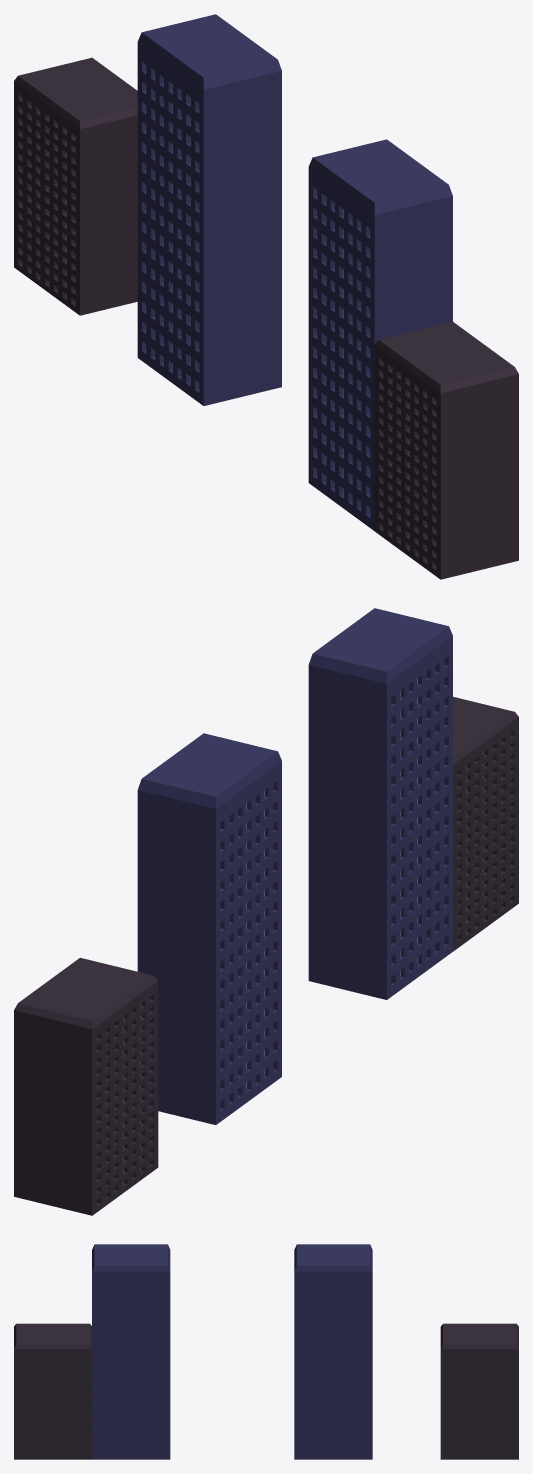
File: buildings.fbx
3 renders of one model, top to bottom at view 1: azimuth 30°, elevation 25°; view 2: azimuth 150°, elevation 25°; view 3: azimuth 270°, elevation 25°, orthographic. The views are drawn at different scales.
Visible parts, largest first — view 1: Cube.001, Cube.002, Cube.003; view 2: Cube.001, Cube.002, Cube.003; view 3: Cube.001, Cube.002, Cube.003.
Part boxes in pixels (<box>): Cube.001: <box>308,139,518,579</box>; Cube.002: <box>137,14,281,405</box>; Cube.003: <box>14,57,137,315</box>; Cube.001: <box>308,608,518,999</box>; Cube.002: <box>137,733,281,1124</box>; Cube.003: <box>14,957,158,1215</box>; Cube.001: <box>14,1244,170,1459</box>; Cube.002: <box>294,1244,372,1459</box>; Cube.003: <box>440,1323,518,1459</box>.
Bounding box in the file's own units: 200 × 797 × 1888.
